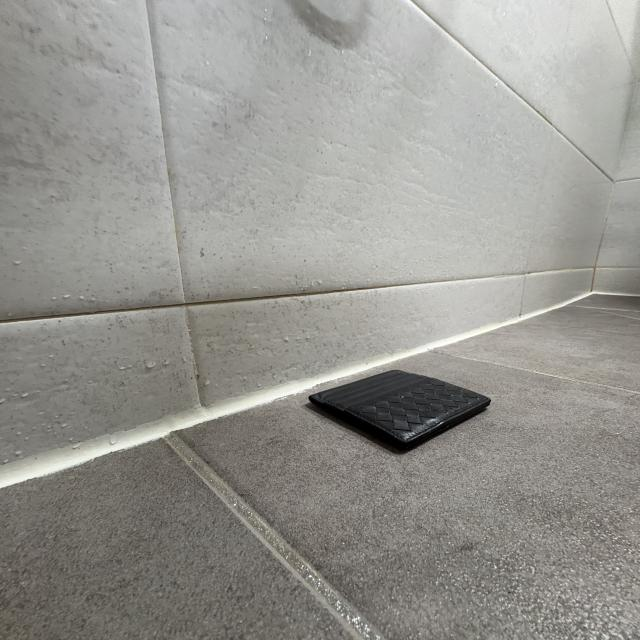wallet: (311, 370, 493, 454)
